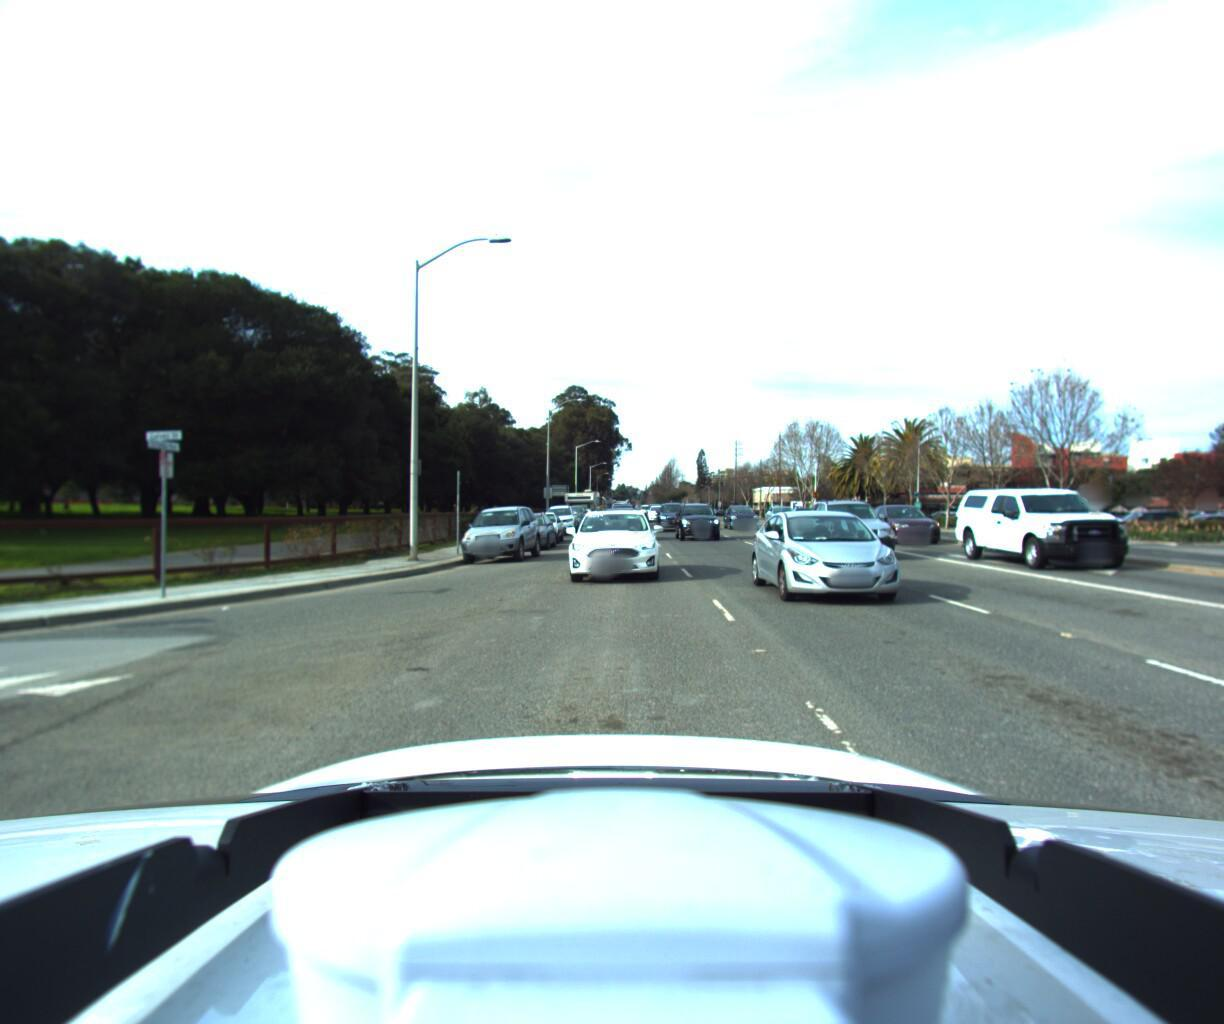car: (959, 477, 1166, 571), (750, 505, 929, 610), (564, 504, 662, 589), (811, 494, 917, 562), (450, 503, 541, 565), (864, 502, 957, 546), (494, 507, 556, 549), (673, 503, 723, 542), (513, 508, 564, 544), (593, 505, 637, 543), (537, 502, 580, 535), (764, 503, 809, 530), (654, 505, 689, 534), (724, 507, 763, 533), (642, 503, 663, 522), (609, 497, 629, 514)
other_vehicle: (556, 488, 599, 524), (568, 485, 603, 521)
